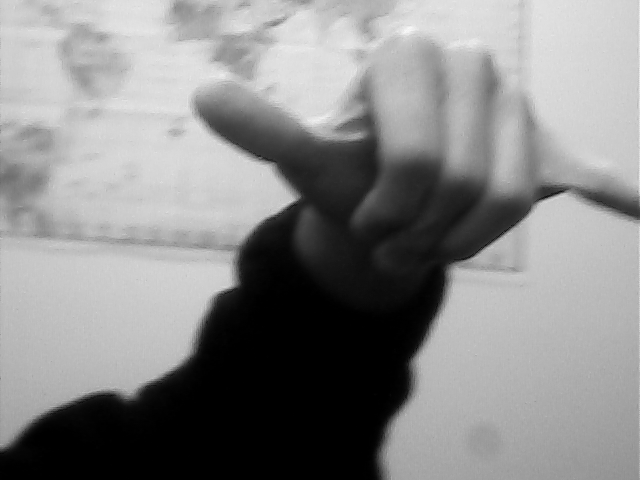aloha: (184, 22, 640, 285)
